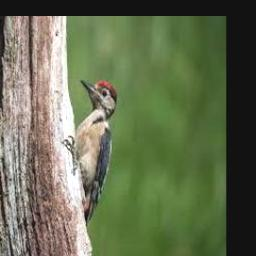Woodpecker: (74, 80, 117, 223)
